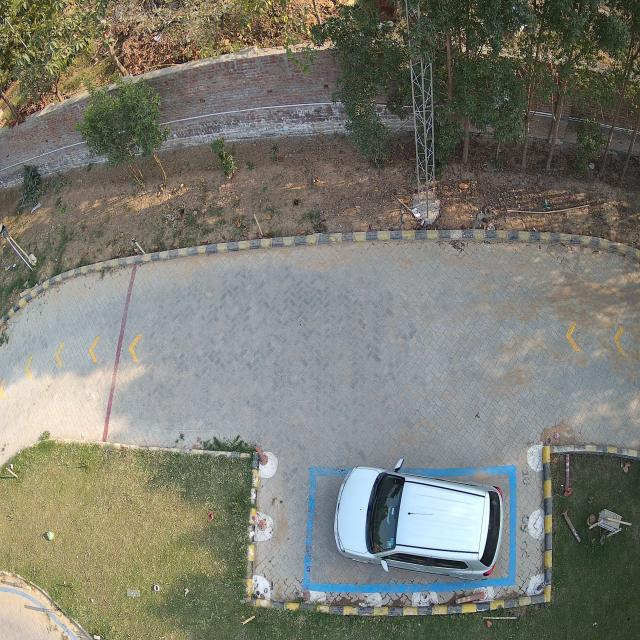car: (334, 460, 504, 580)
